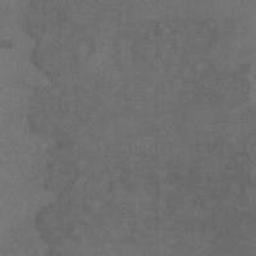Water spot: (26, 0, 256, 256)
